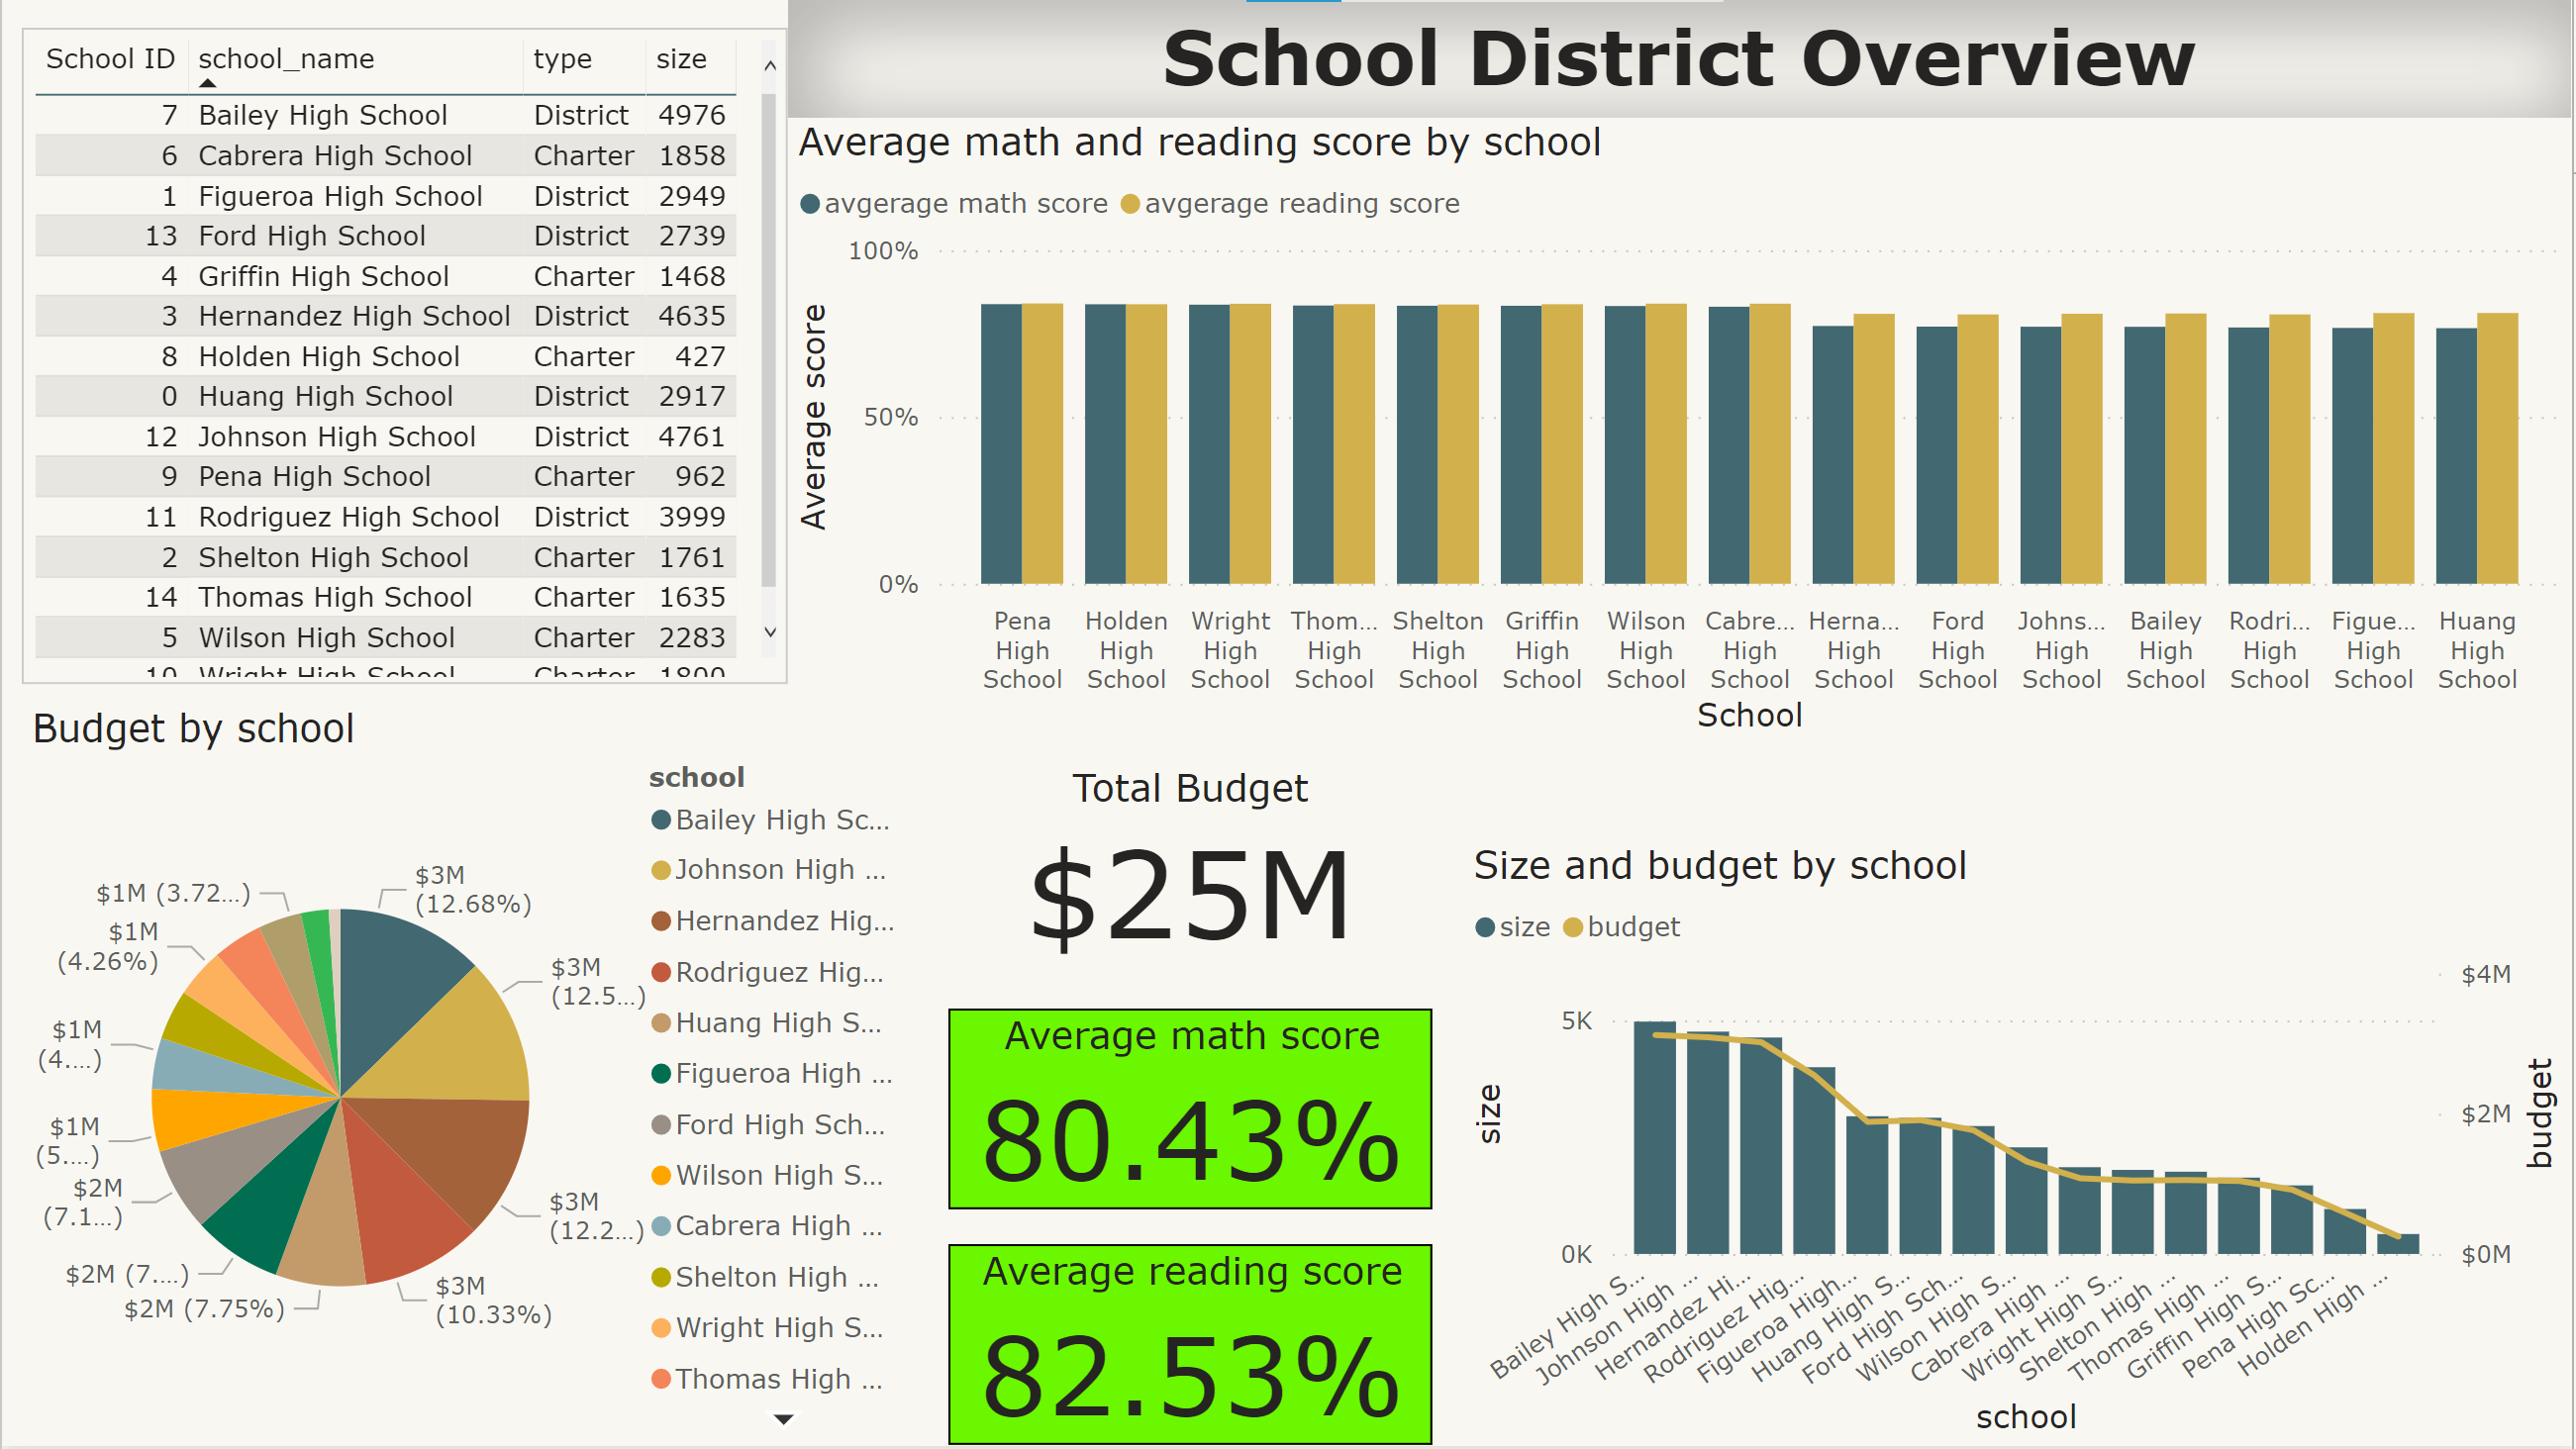

The dashboard page shown, as its layout file describes it:
{"tool":"powerbi","page":{"name":"District info","canvas":[1280,720],"ordinal":0},"visuals":[{"type":"tableEx","fields":{"Values":["schools_complete.School ID","schools_complete.school_name","schools_complete.type","schools_complete.size"]},"box":[9.7,14.6,363.8,326.8],"z":0},{"type":"card","title":"Total Budget","fields":{"Values":["schools_complete.budget"]},"box":[471.7,379.3,241.2,100.2],"z":1000},{"type":"pieChart","title":"Budget by school","fields":{"Category":["schools_complete.school_name"],"Y":["schools_complete.budget"]},"box":[9.7,350.2,449.4,369.6],"z":2000},{"type":"clusteredColumnChart","title":"Average math and reading score by school","fields":{"Category":["students_complete (2).school_name"],"Y":["average_scores.avg math score","average_scores.avg reading score"]},"box":[392,58.4,888,312.2],"z":3000},{"type":"card","title":"Average math score","fields":{"Values":["average_scores.avg math score"]},"box":[471.7,501.9,241.2,100.2],"z":4000},{"type":"card","title":"Average reading score","fields":{"Values":["average_scores.avg reading score"]},"box":[471.7,619.6,241.2,100.2],"z":5000},{"type":"lineStackedColumnComboChart","title":"Size and budget by school","fields":{"Category":["schools_complete.school_name"],"Y":["schools_complete.size"],"Y2":["schools_complete.budget"]},"box":[727.5,418.2,552.5,301.5],"z":6000},{"type":"textbox","box":[392,0,888,58.4],"z":7000}]}

Visuals, with their boxes in screenshot pixels (x1, y1, x2, y2), scaled from the page's 1280x720 canvas onto the 2576x1449 screenshot:
tableEx - schools_complete.School ID x schools_complete.school_name: (20, 30, 751, 687)
"Total Budget" card: (949, 763, 1435, 965)
"Budget by school" pieChart: (20, 705, 924, 1448)
"Average math and reading score by school" clusteredColumnChart: (789, 118, 2575, 746)
"Average math score" card: (949, 1011, 1435, 1211)
"Average reading score" card: (949, 1247, 1435, 1448)
"Size and budget by school" lineStackedColumnComboChart: (1464, 841, 2575, 1448)
textbox: (789, 0, 2575, 118)
